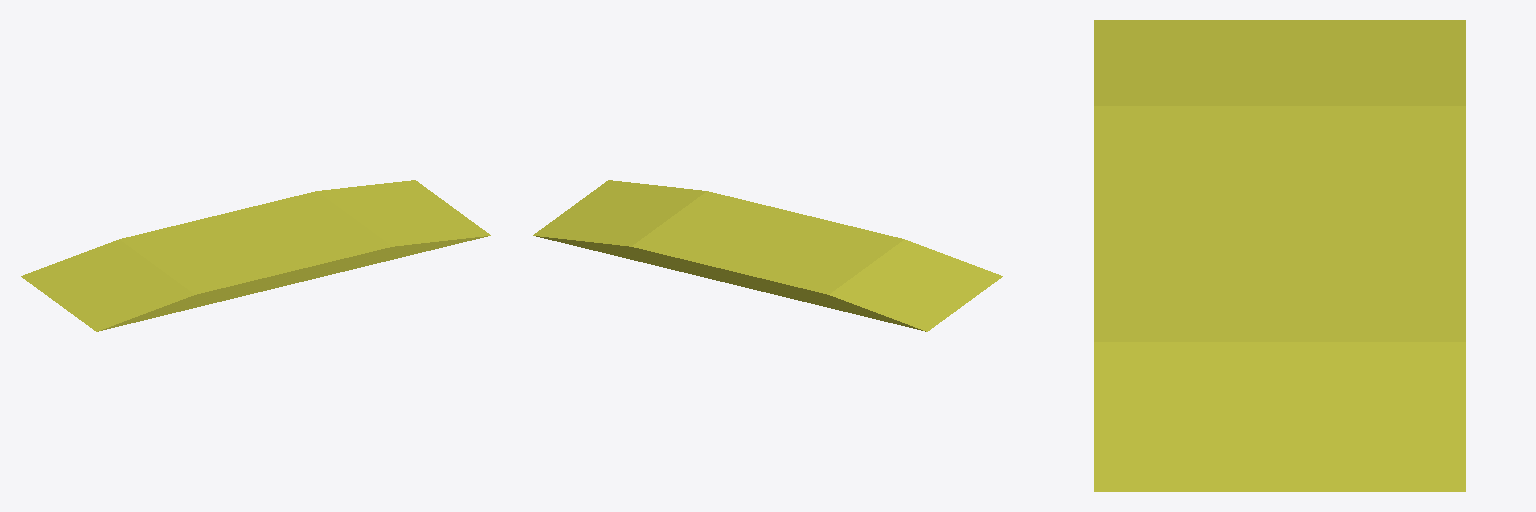
URDF robot description (Part1):
<?xml version="1.0" encoding="utf-8"?>
<!-- This URDF was automatically created by SolidWorks to URDF Exporter! Originally created by [author] ([email redacted]) 
     Commit Version: 1.5.1-0-g916b5db  Build Version: 1.5.7152.31018
     For more information, please see http://wiki.ros.org/sw_urdf_exporter -->
<robot
  name="Part1">
  <link
    name="ramp_5">
    <inertial>
      <origin
        xyz="7.5814E-16 7.67928484115444E-17 -0.005"
        rpy="0 0 0" />
      <mass
        value="500" />
      <inertia
        ixx="180.35"
        ixy="-6.0423E-14"
        ixz="4.7564E-15"
        iyy="450.35"
        iyz="1.08287265732095E-14"
        izz="630" />
    </inertial>
    <visual>
      <origin
        xyz="-1.2 -0.5 0"
        rpy="1.5707963267949 0 0" />
      <geometry>
        <mesh
          filename="package://ramp_5/meshes/ramp_5.STL" scale="1.5 2.1 1" />
      </geometry>
      <material
        name="">
        <color
          rgba= "0.8 0.8 0.3 1" />
        <texture
          filename="package://ramp_5/textures/" />
      </material>
    </visual>
    <collision>
      <origin
        xyz="-1.2 -0.5 0"
        rpy="1.5707963267949 0 0" />
      <geometry>
        <mesh
          filename="package://ramp_5/meshes/ramp_5.STL"  scale="1.5 2.1 1"/>
      </geometry>
    </collision>
  </link>
</robot>

--- Render facts (derived) ---
3 views of the same robot in one strip: view 1: azimuth 30°, elevation 25°; view 2: azimuth 150°, elevation 25°; view 3: azimuth 270°, elevation 25° (orthographic).
Robot: Part1 — 1 links, 0 joints (none); root link ramp_5; default pose: every joint at zero.
Links seen in each view (by area): view 1: ramp_5; view 2: ramp_5; view 3: ramp_5.
Link boxes in pixels (bbox=[...]): ramp_5: bbox=[21, 180, 490, 331]; ramp_5: bbox=[533, 180, 1002, 331]; ramp_5: bbox=[1094, 20, 1465, 491].
Size in the robot's own frame: 6 by 2 by 0.189 metres.
1 mesh visuals loaded from 1 distinct referenced files (1 binary STL).